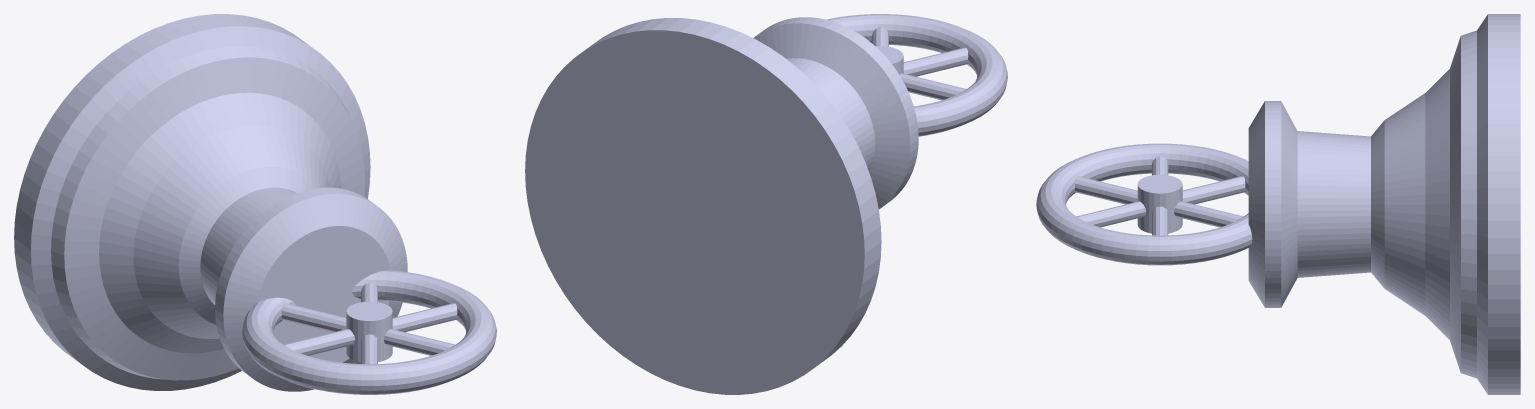
The model's file is rath_chandra.glb.
3 renders of one model, left to right at view 1: azimuth 30°, elevation 25°; view 2: azimuth 150°, elevation 25°; view 3: azimuth 270°, elevation 25°, orthographic. The views are drawn at different scales.
Visible parts, largest first — view 1: geometry_0; view 2: geometry_0; view 3: geometry_0.
Part boxes in pixels (box(x1,y1,x2,y2)): geometry_0: box(14, 14, 496, 394); geometry_0: box(525, 14, 1007, 394); geometry_0: box(1036, 14, 1520, 394).
Bounding box in the file's own units: 0.028 × 0.028 × 0.0356.
